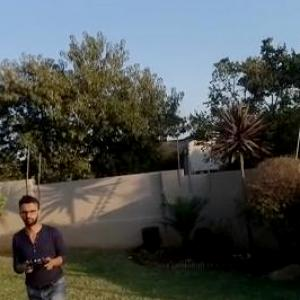follow: (8, 189, 71, 299)
